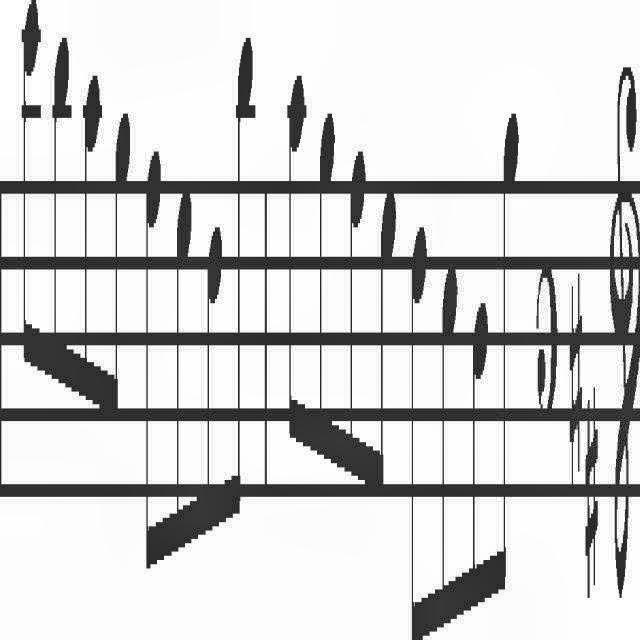Bass-clef: (606, 0, 640, 640)
Diez: (566, 271, 584, 494), (584, 367, 600, 617)
Eighth-note: (499, 89, 529, 629), (232, 10, 254, 542), (142, 121, 166, 584), (409, 215, 433, 640), (175, 150, 198, 578), (286, 55, 310, 458), (468, 295, 496, 629), (82, 54, 106, 436), (439, 235, 461, 629), (51, 0, 72, 412), (21, 0, 43, 392), (348, 110, 368, 526), (316, 76, 336, 490), (202, 184, 222, 576), (379, 144, 397, 532), (112, 100, 132, 430)
